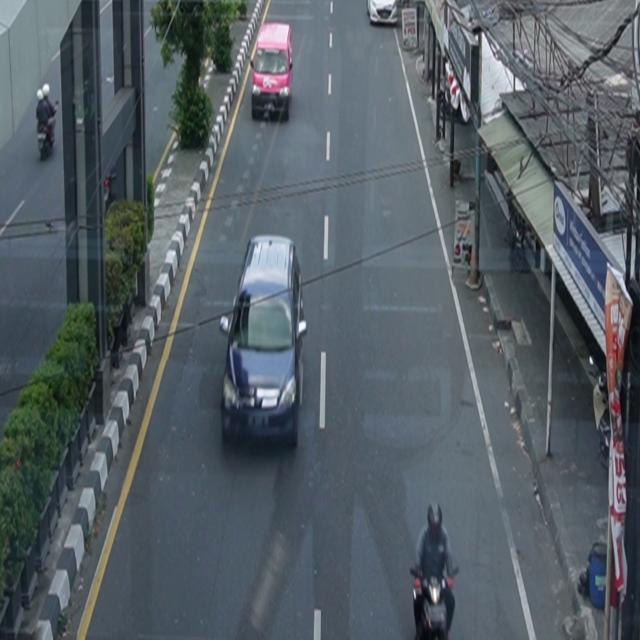car: (220, 234, 308, 449), (251, 23, 294, 122)
